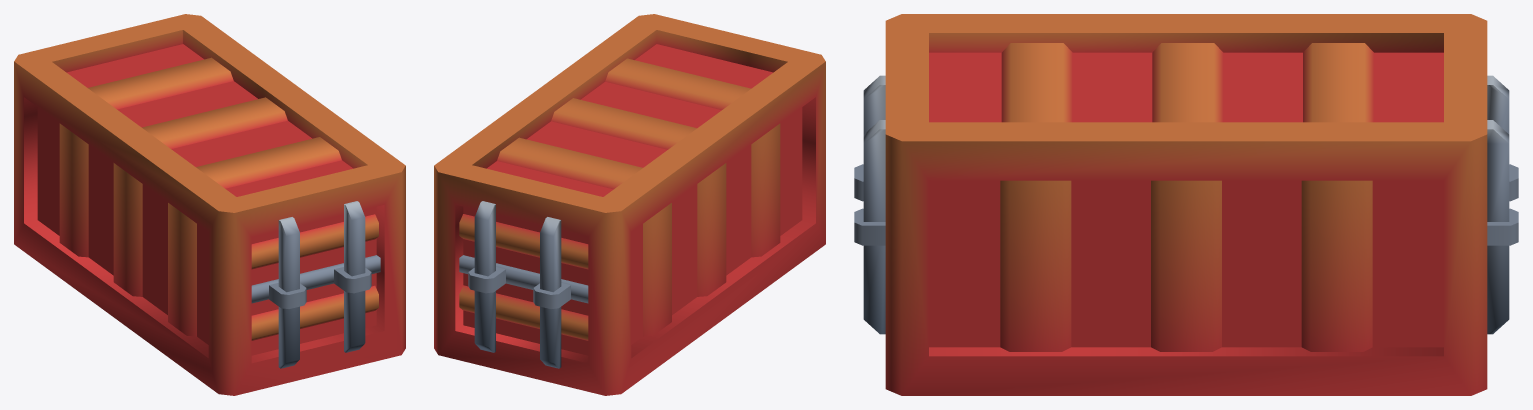
File: container.glb
3 views of the same model, side by side, from view 1: azimuth 30°, elevation 25°; view 2: azimuth 150°, elevation 25°; view 3: azimuth 270°, elevation 25° (orthographic). The views are drawn at different scales.
Parts seen in each view (by area): view 1: shipping-container-a; view 2: shipping-container-a; view 3: shipping-container-a.
Boxes of the visible parts, box(x1,y1,x2,y2) form: shipping-container-a: box(14, 14, 405, 395); shipping-container-a: box(434, 14, 825, 395); shipping-container-a: box(854, 14, 1518, 395).
Size of the model in its own units: 0.7247 by 0.677 by 1.6.
